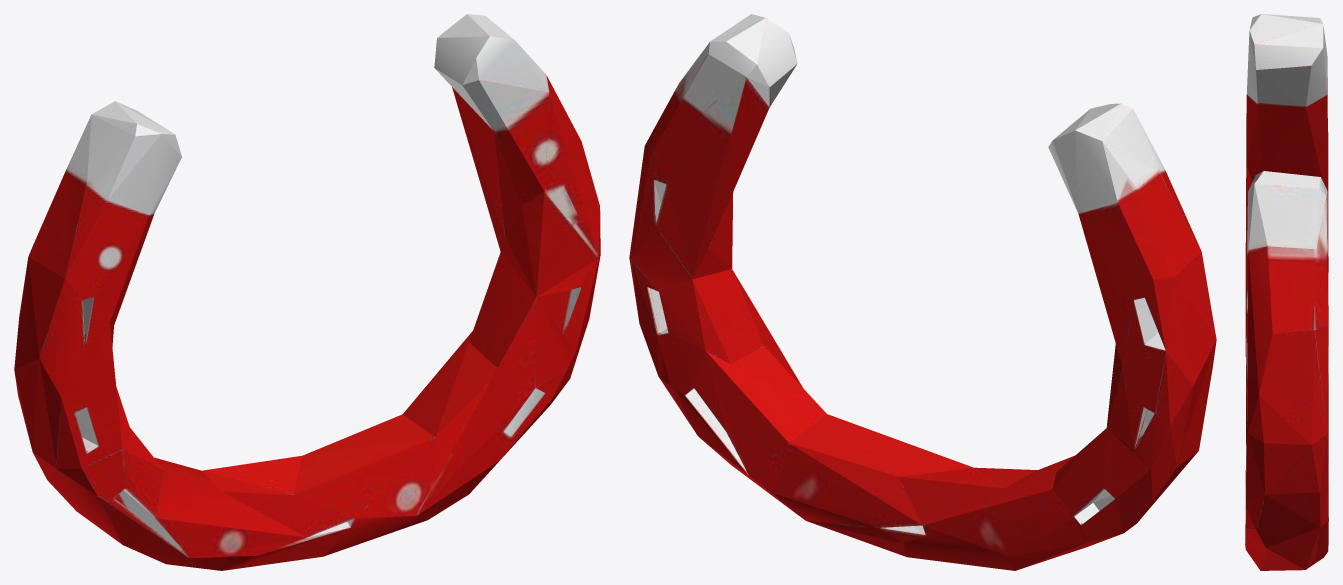
The model's file is magnet.glb.
3 views of the same model, side by side, from view 1: azimuth 30°, elevation 25°; view 2: azimuth 150°, elevation 25°; view 3: azimuth 270°, elevation 25° (orthographic). The views are drawn at different scales.
Size of the model in its own units: 1.89 by 1.53 by 0.2682.
1 material, 1 textured.
